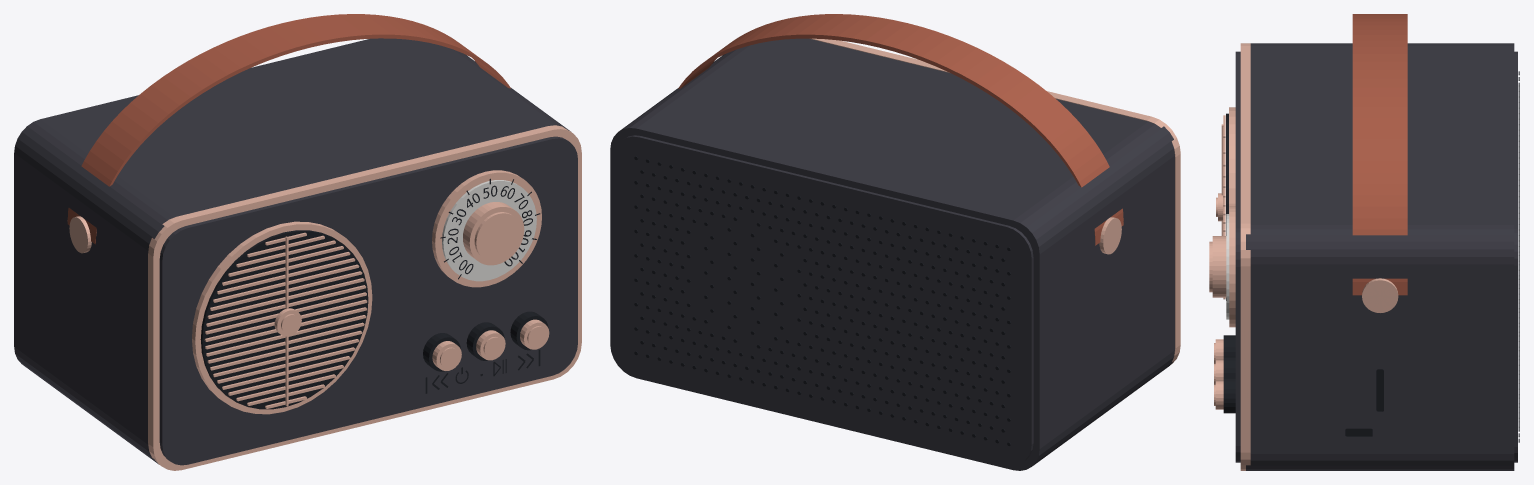
Rendered from speaker-reference-v2.glb.
The picture shows the model from 3 angles, left to right: view 1: azimuth 30°, elevation 25°; view 2: azimuth 150°, elevation 25°; view 3: azimuth 270°, elevation 25°; orthographic projection. The views are drawn at different scales.
Visible parts, largest first — view 1: Speaker - reference model; view 2: Speaker - reference model; view 3: Speaker - reference model.
Part boxes in pixels (box(x1,y1,x2,y2)): Speaker - reference model: box(14, 14, 581, 470); Speaker - reference model: box(610, 14, 1180, 470); Speaker - reference model: box(1209, 14, 1519, 470).
Bounding box in the file's own units: 0.1164 × 0.0878 × 0.0734.
